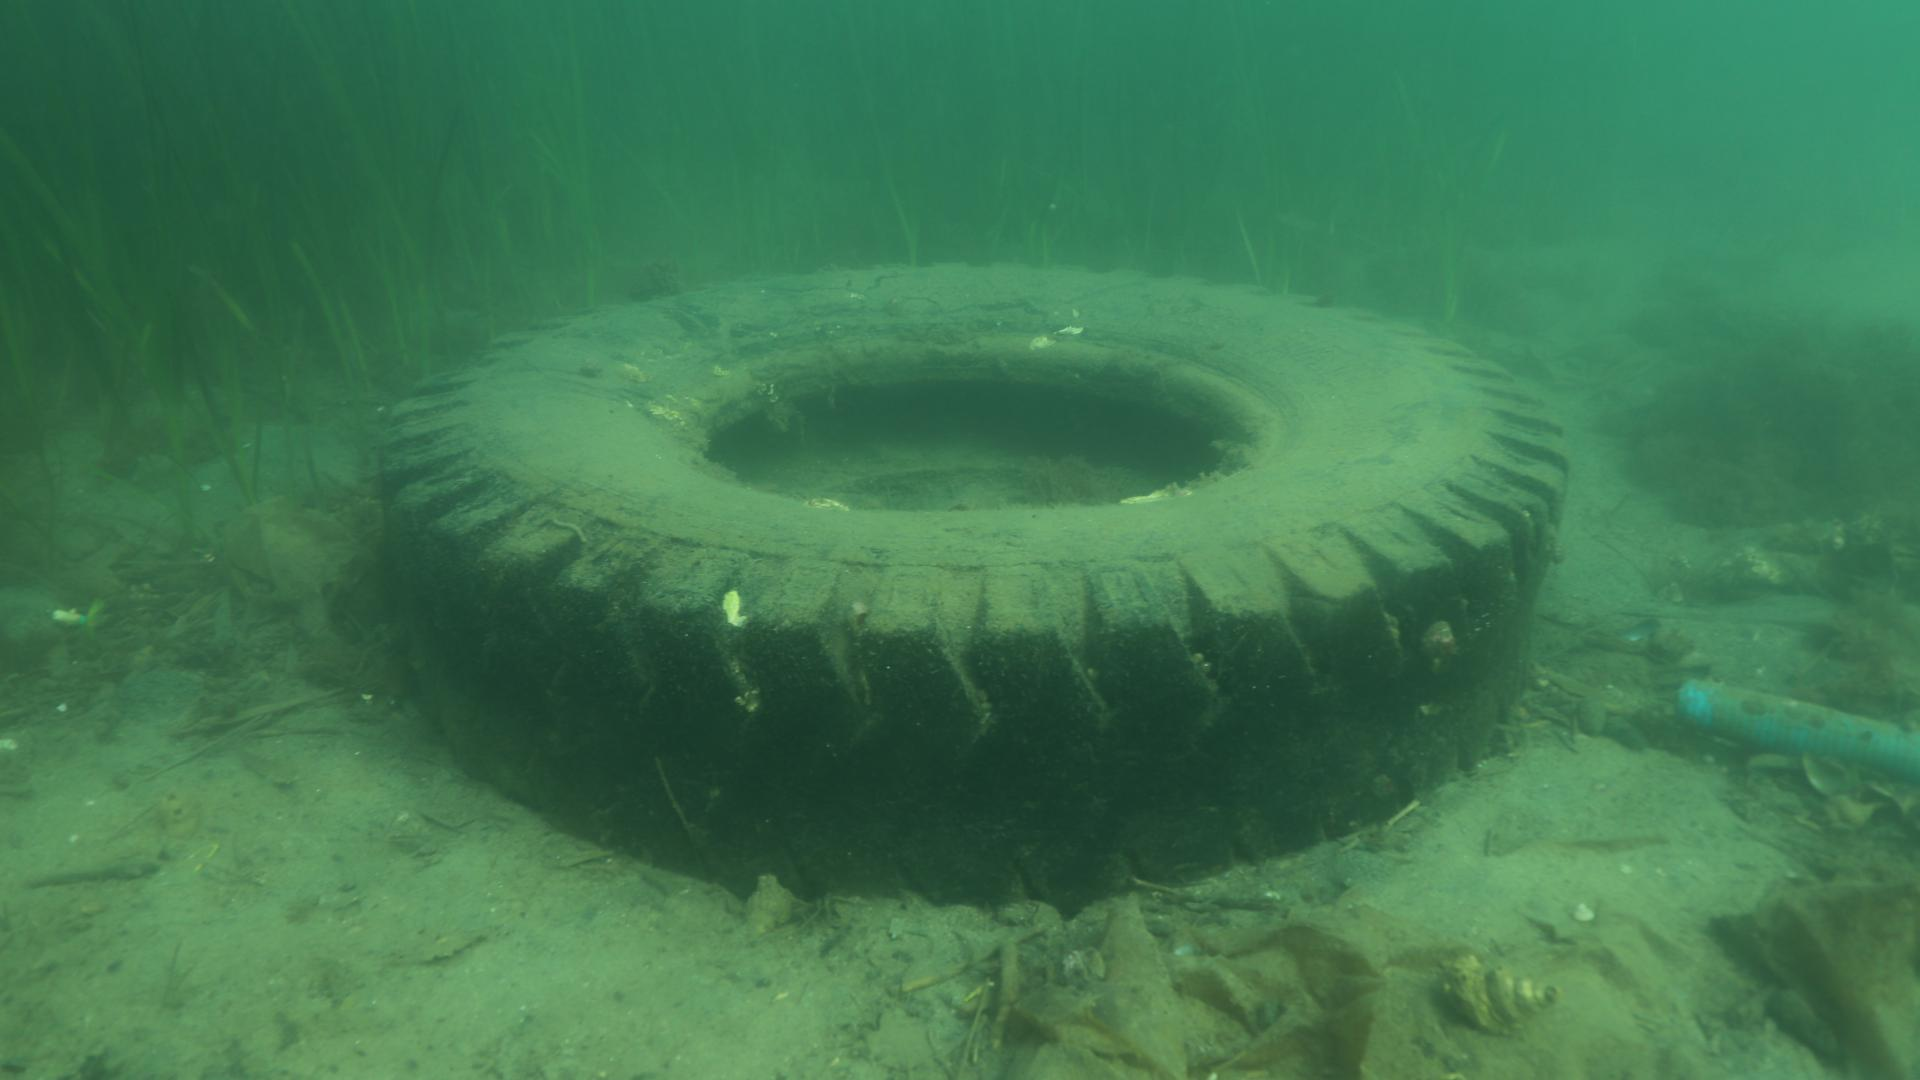tire: (377, 258, 1573, 911)
